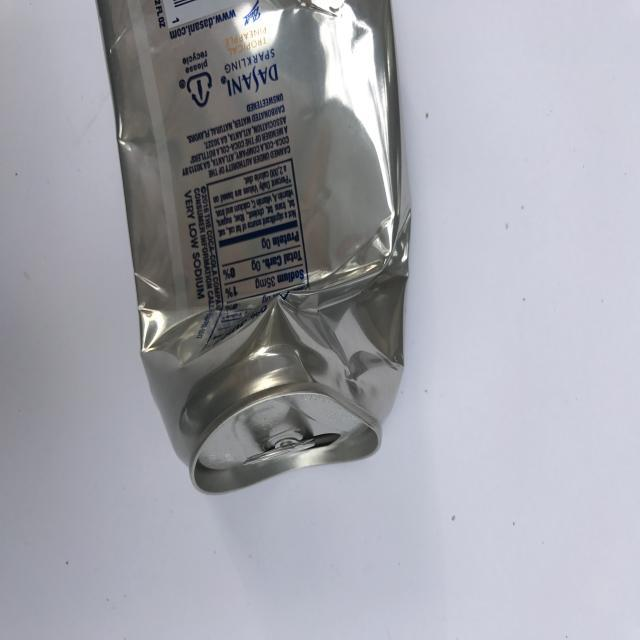metal: (95, 1, 414, 497)
